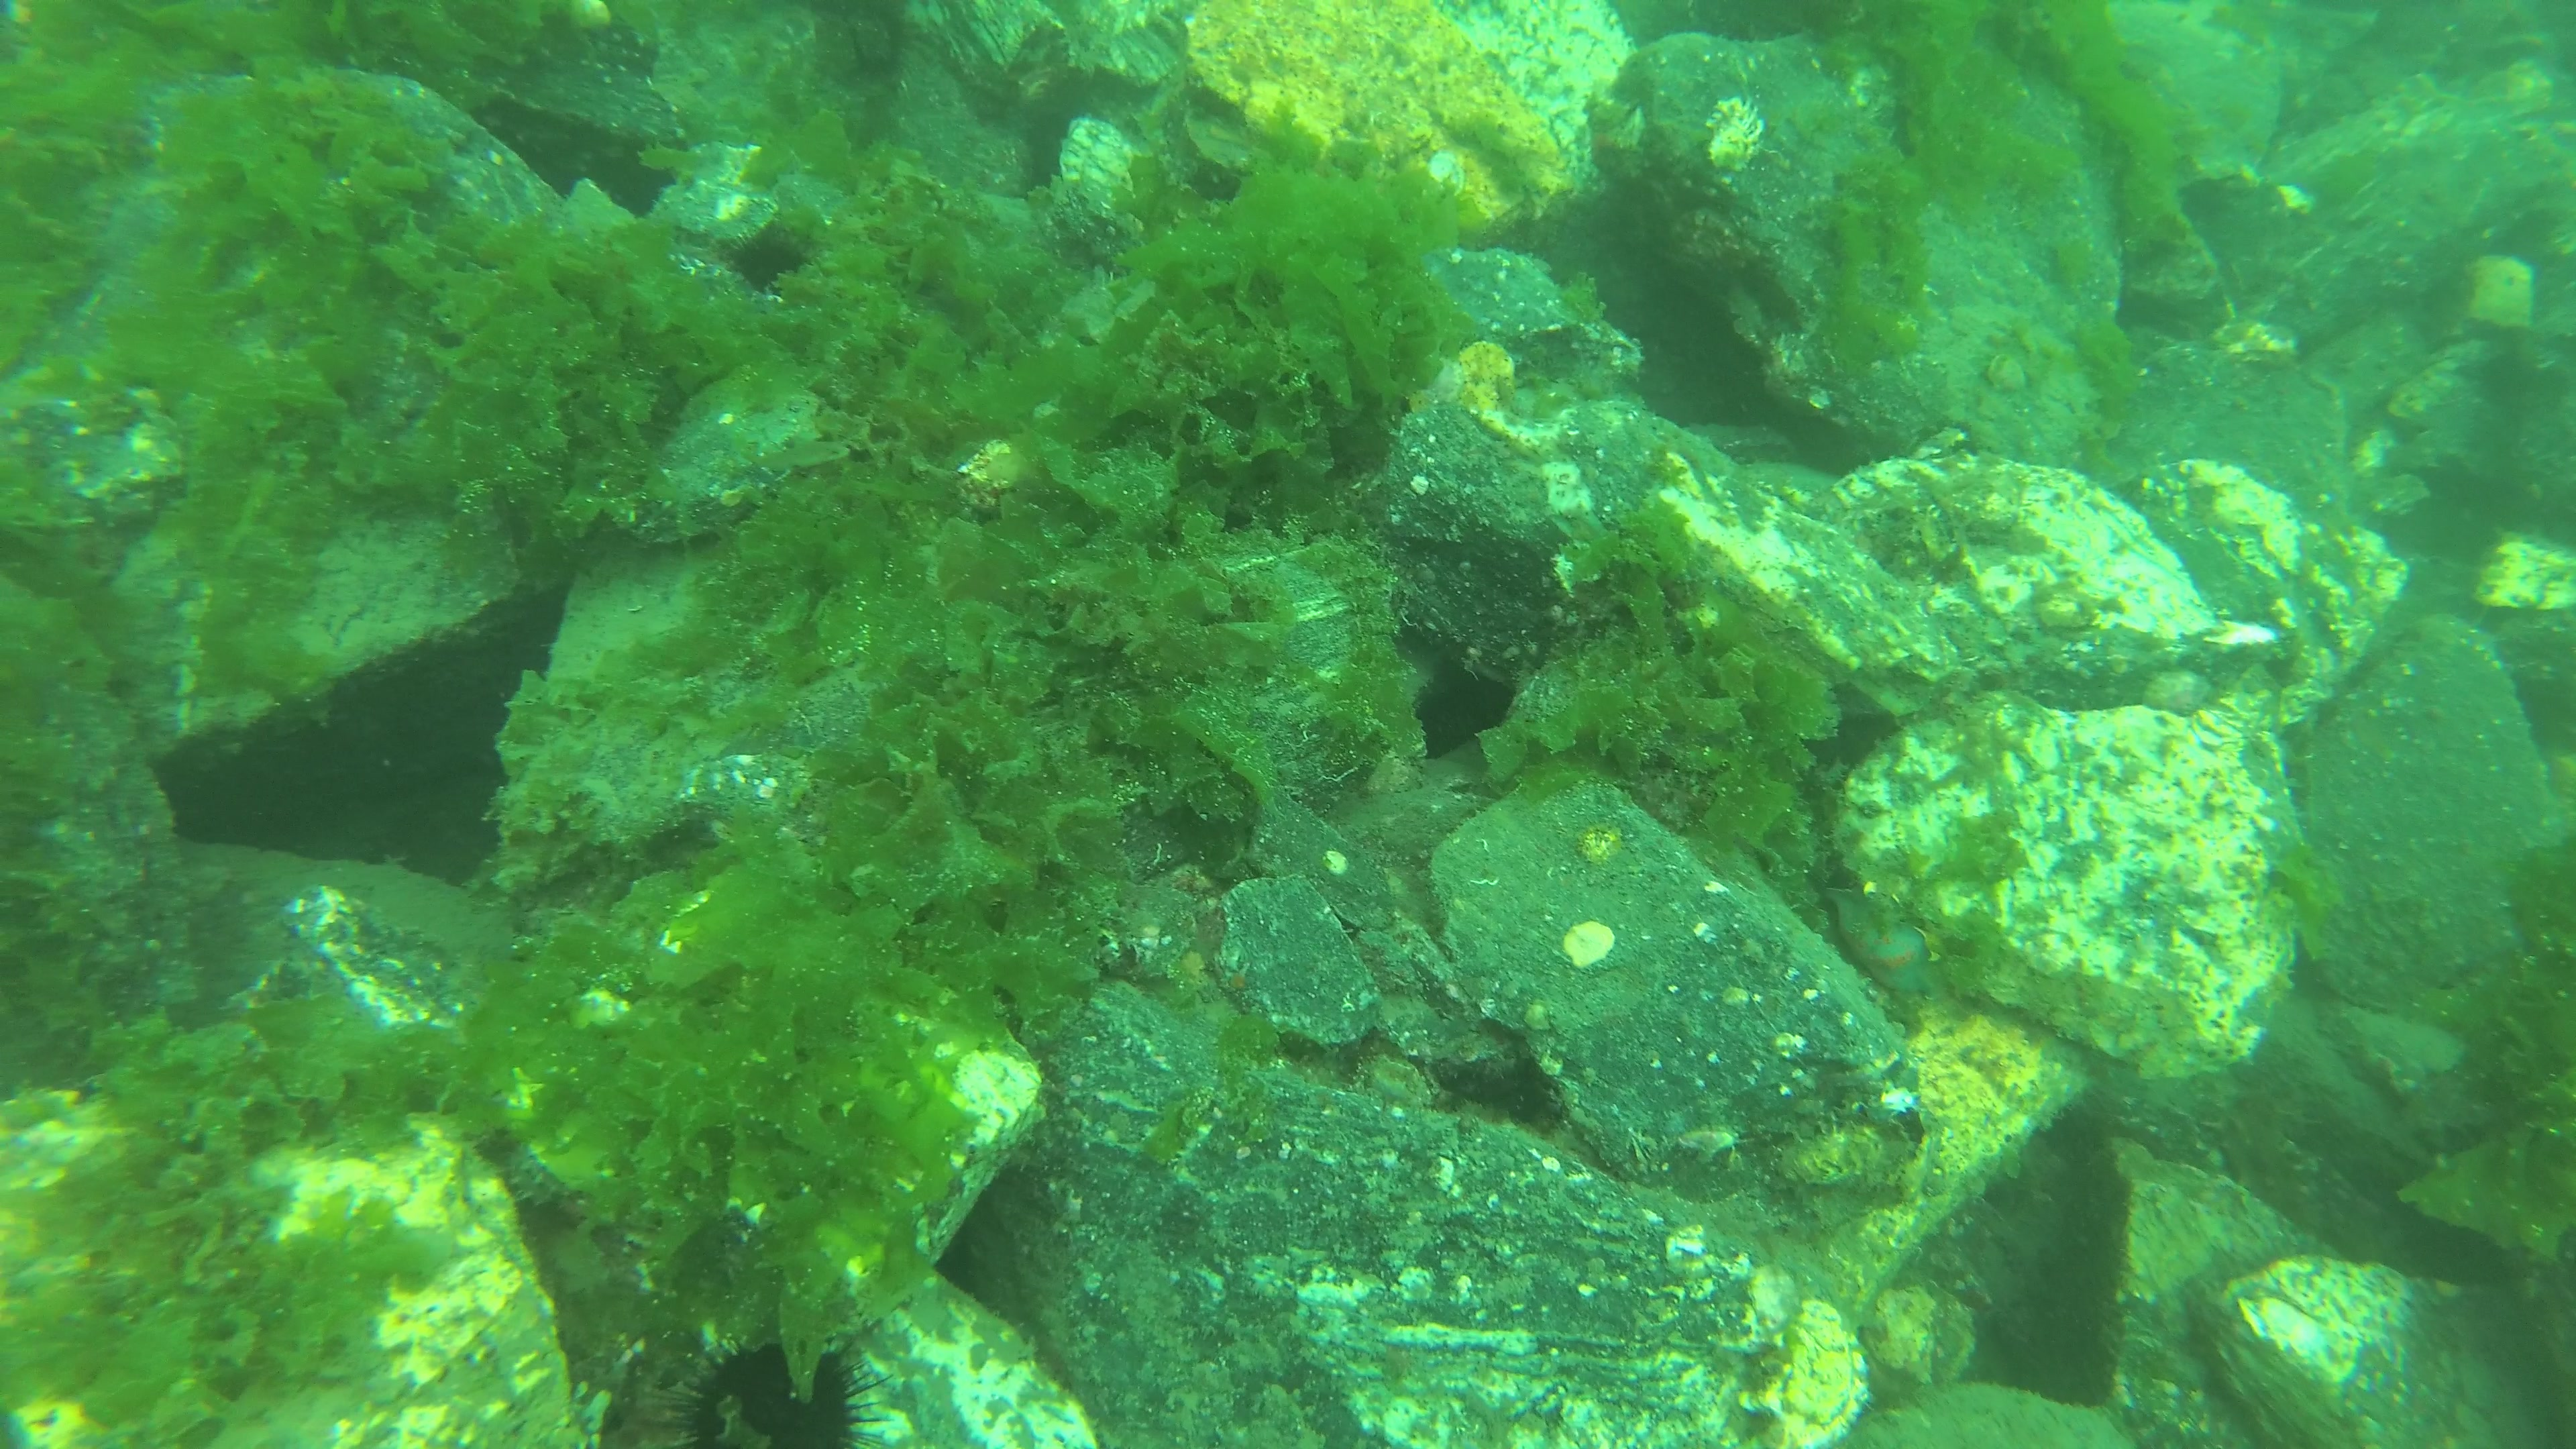echinus: (672, 1330, 897, 1449), (725, 225, 809, 295)
